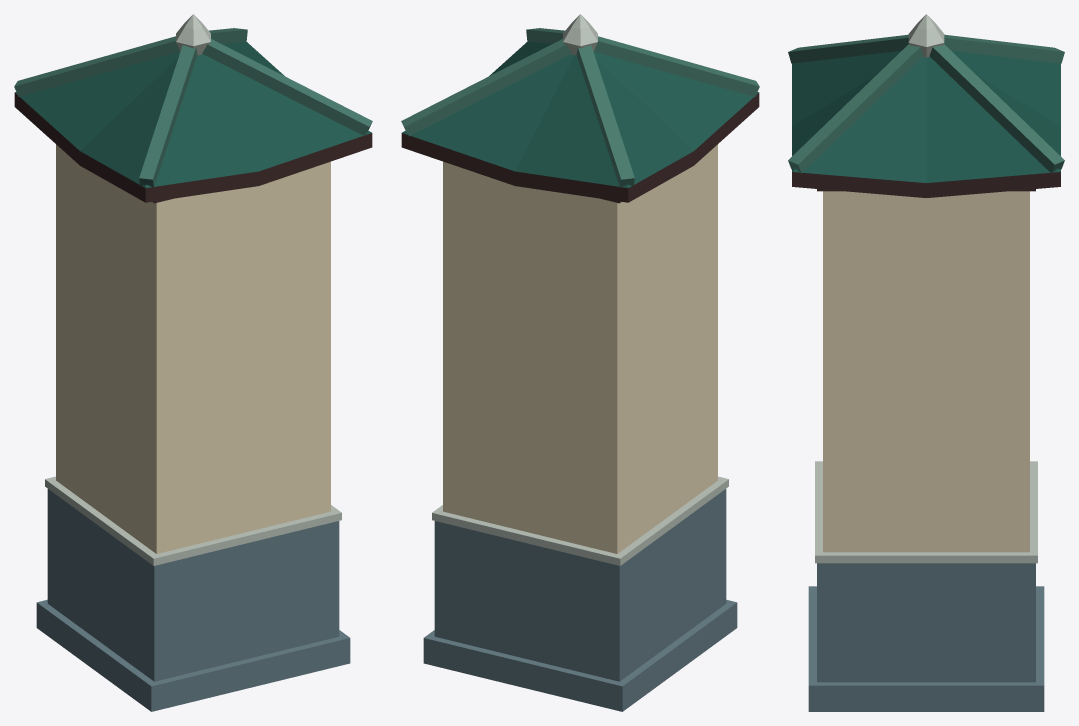
Rendered from wall_corner.glb.
3 renders of one model, left to right at view 1: azimuth 30°, elevation 25°; view 2: azimuth 150°, elevation 25°; view 3: azimuth 270°, elevation 25°, orthographic. The views are drawn at different scales.
Visible parts, largest first — view 1: WallCorner / Plaster, WallCorner / Stone, WallCorner / Jade, WallCorner / TileLight, WallCorner / Timber, WallCorner / Coping; view 2: WallCorner / Plaster, WallCorner / Stone, WallCorner / Jade, WallCorner / TileLight, WallCorner / Timber, WallCorner / Coping; view 3: WallCorner / Plaster, WallCorner / Stone, WallCorner / Jade, WallCorner / TileLight, WallCorner / Coping, WallCorner / Timber.
Part boxes in pixels (box(x1,y1,x2,y2)): WallCorner / Plaster: box(56, 144, 330, 553); WallCorner / Stone: box(36, 489, 350, 711); WallCorner / Jade: box(15, 41, 371, 187); WallCorner / TileLight: box(14, 28, 372, 187); WallCorner / Timber: box(14, 93, 372, 203); WallCorner / Coping: box(45, 14, 341, 565); WallCorner / Plaster: box(443, 144, 717, 553); WallCorner / Stone: box(423, 489, 737, 711); WallCorner / Jade: box(402, 41, 758, 187); WallCorner / TileLight: box(401, 28, 759, 187); WallCorner / Timber: box(401, 93, 759, 203); WallCorner / Coping: box(432, 14, 728, 565); WallCorner / Plaster: box(823, 191, 1029, 552); WallCorner / Stone: box(808, 563, 1044, 711); WallCorner / Jade: box(792, 51, 1060, 182); WallCorner / TileLight: box(788, 34, 1064, 173); WallCorner / Coping: box(815, 14, 1037, 563); WallCorner / Timber: box(792, 172, 1060, 197).
Bounding box in the file's own units: 1.34 × 3.46 × 1.34.
